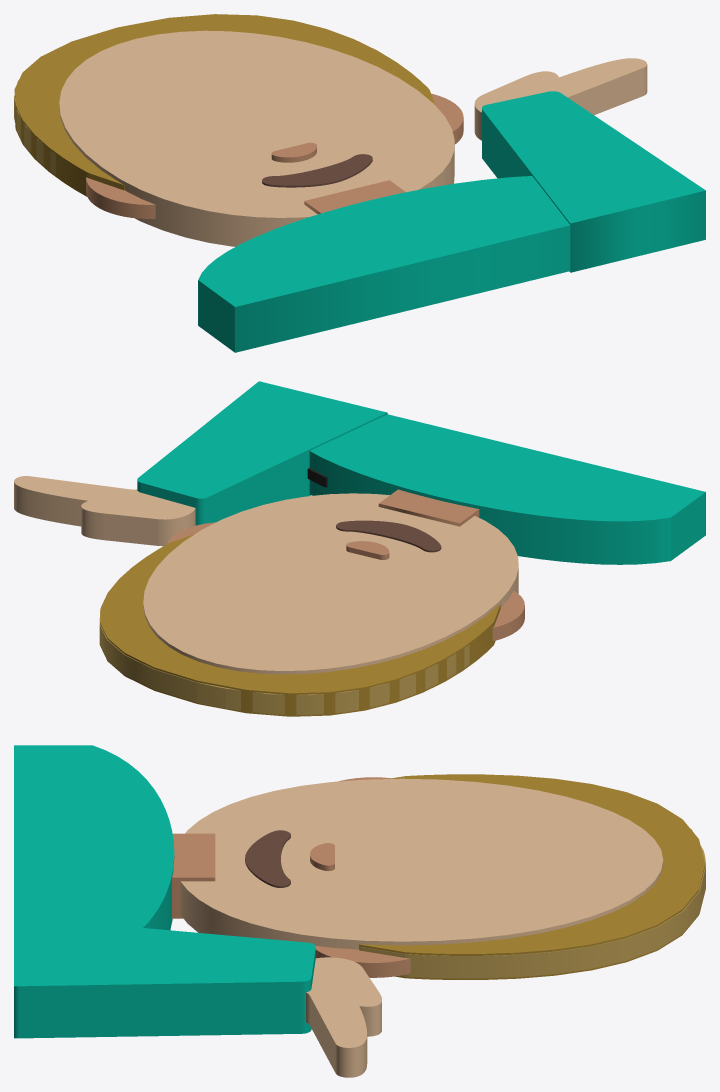
The model's file is emoji_u1f481_1f3fc_200d_2642.glb.
The picture shows the model from 3 angles, top to bottom: view 1: azimuth 30°, elevation 25°; view 2: azimuth 150°, elevation 25°; view 3: azimuth 270°, elevation 25°; orthographic projection. The views are drawn at different scales.
Visible parts, largest first — view 1: emoji_u1f481_1f3fc_200d_2642; view 2: emoji_u1f481_1f3fc_200d_2642; view 3: emoji_u1f481_1f3fc_200d_2642.
Boxes of the visible parts, x1,y1,x2,y2 form: emoji_u1f481_1f3fc_200d_2642: (14,14,705,352); emoji_u1f481_1f3fc_200d_2642: (14,381,705,716); emoji_u1f481_1f3fc_200d_2642: (14,745,705,1077).
Size of the model in its own units: 0.0338 by 0.0028 by 0.0337.
